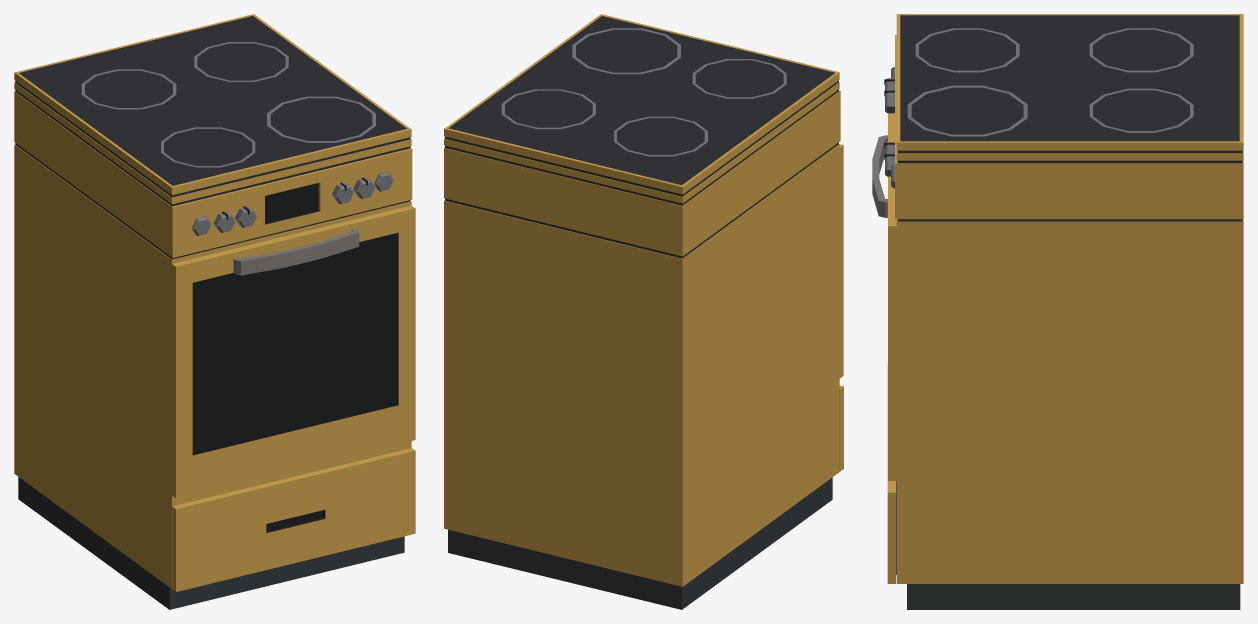
File: electricstove_01_D.gltf
3 renders of one model, left to right at view 1: azimuth 30°, elevation 25°; view 2: azimuth 150°, elevation 25°; view 3: azimuth 270°, elevation 25°, orthographic. The views are drawn at different scales.
Parts seen in each view (by area): view 1: electricstove_01_D, Doorforelectricstove_01_D, pulloutshelfforelectricstove_01_D; view 2: electricstove_01_D, Doorforelectricstove_01_D; view 3: electricstove_01_D, Doorforelectricstove_01_D, pulloutshelfforelectricstove_01_D.
Boxes of the visible parts, bbox=[...] form: electricstove_01_D: bbox=[14, 14, 412, 609]; Doorforelectricstove_01_D: bbox=[172, 205, 415, 498]; pulloutshelfforelectricstove_01_D: bbox=[172, 448, 415, 591]; electricstove_01_D: bbox=[444, 14, 840, 609]; Doorforelectricstove_01_D: bbox=[839, 144, 843, 378]; electricstove_01_D: bbox=[895, 14, 1243, 609]; Doorforelectricstove_01_D: bbox=[872, 113, 896, 480]; pulloutshelfforelectricstove_01_D: bbox=[887, 364, 896, 583].
Size of the model in its own units: 0.5 by 0.8508 by 0.6099.
1 material, 1 textured.
